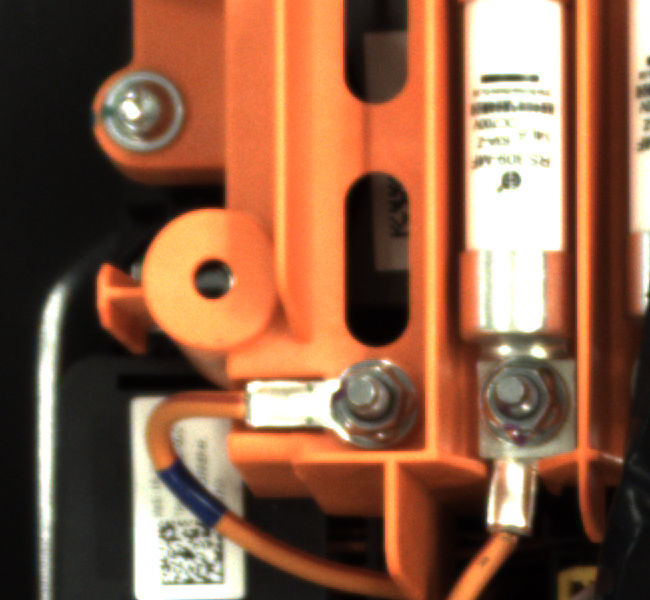screw_m: (91, 61, 208, 156)
screw_s: (481, 349, 572, 459), (328, 350, 421, 443)
